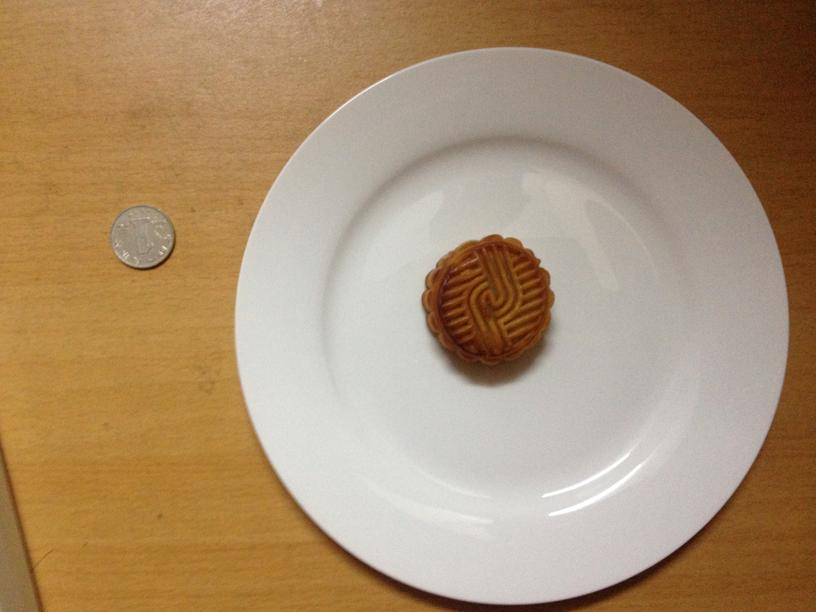coin: (109, 207, 175, 269)
mooncake: (420, 231, 553, 363)
